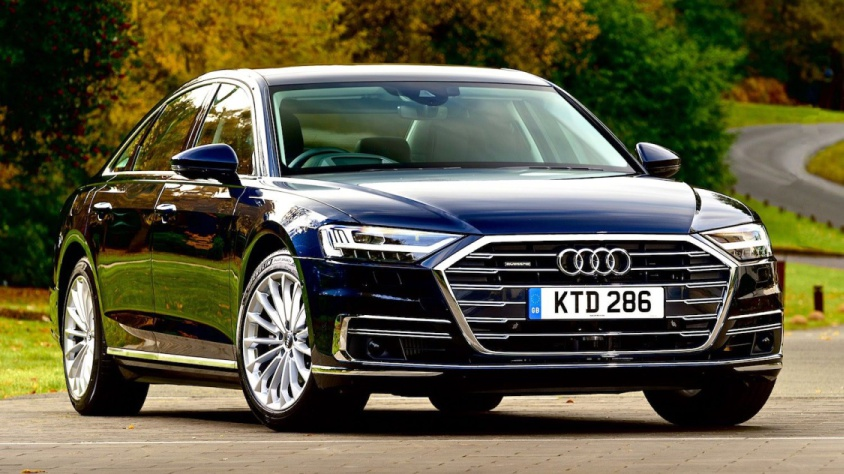audi: (552, 243, 634, 278)
